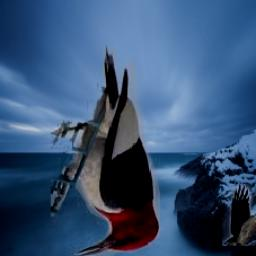Crow: (222, 185, 256, 247)
Woodpecker: (52, 45, 161, 256)
